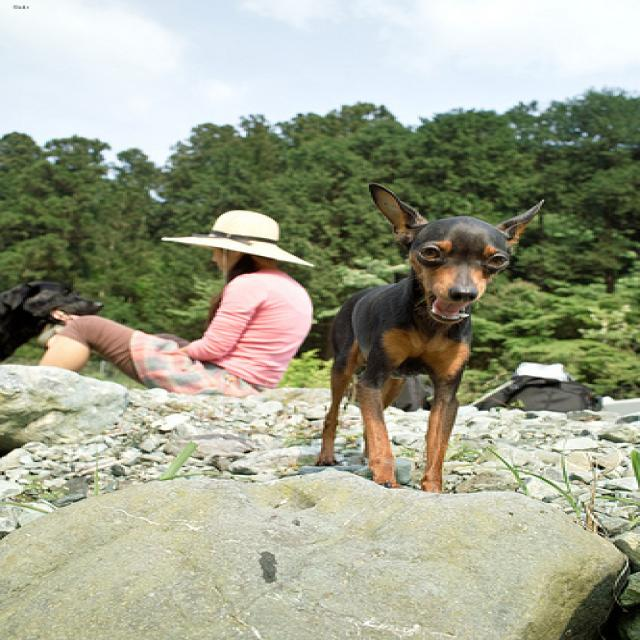dog-miniature_pinscher: (302, 180, 548, 503)
